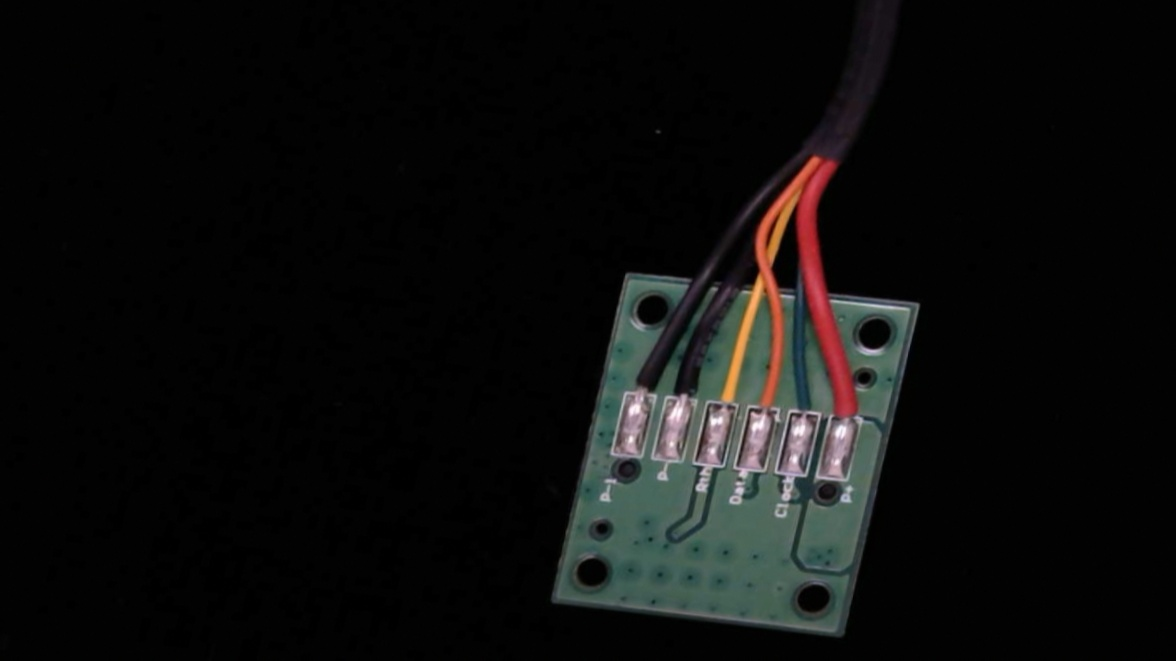Black: (659, 347, 713, 416)
Black1: (619, 350, 666, 410)
Green: (778, 370, 830, 432)
Orange: (741, 363, 792, 428)
Red: (823, 369, 875, 432)
Yellow: (703, 354, 753, 420)
